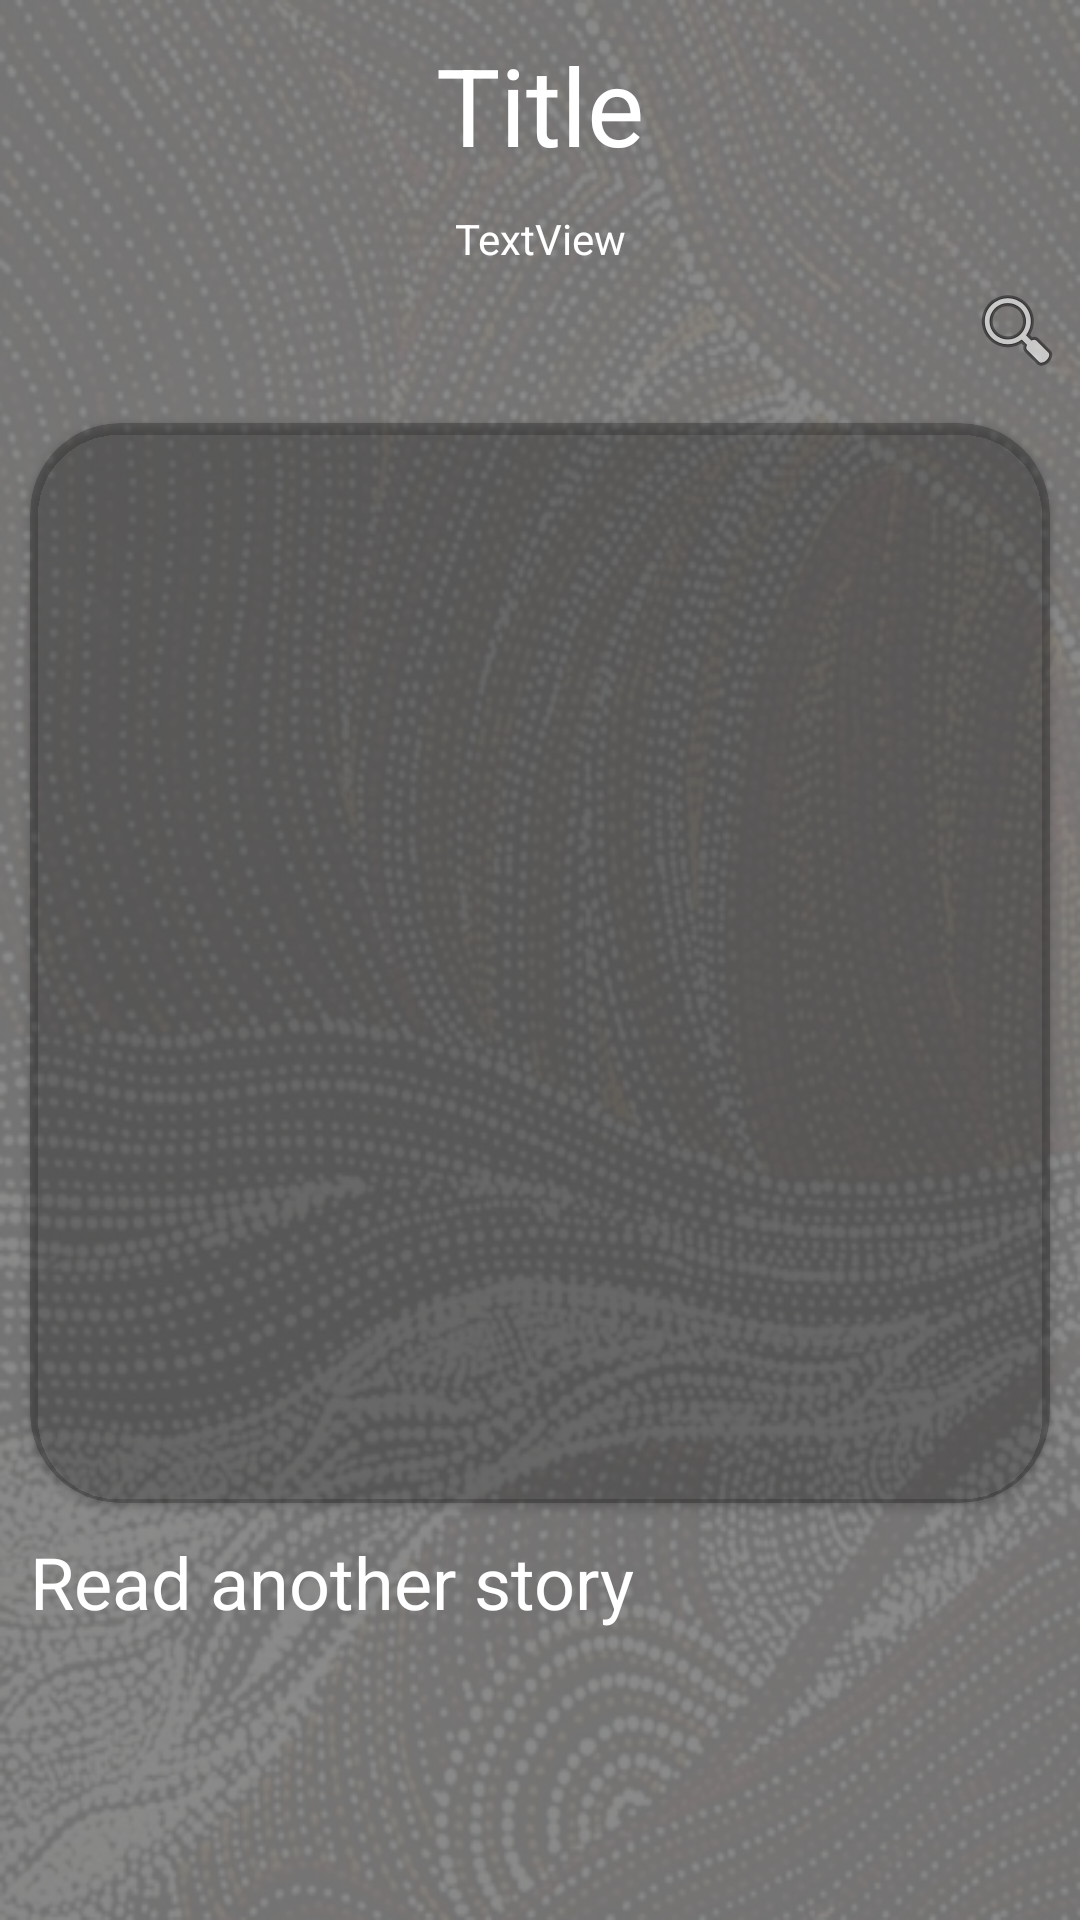

Icon click points for this 1080w x 1920h phone screenshot, format [x,y]:
search: [1017,330]
